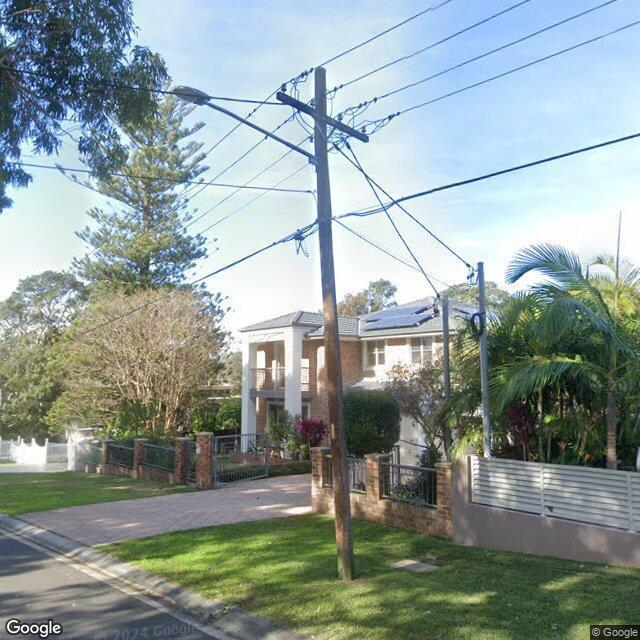crossarm: (275, 90, 371, 144)
streetlight: (173, 85, 318, 168)
timber-pole: (316, 67, 353, 580), (478, 262, 490, 457), (443, 294, 451, 397)
